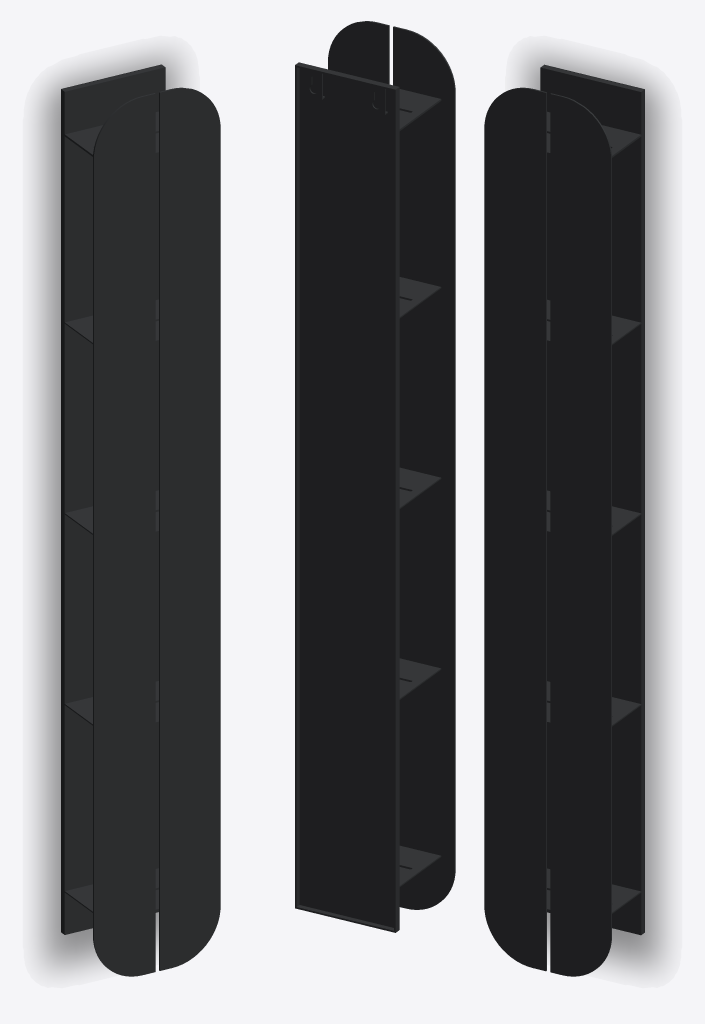
File: round-prima.3bdfa59b88.ar.glb
3 views of the same model, side by side, from view 1: azimuth 30°, elevation 25°; view 2: azimuth 150°, elevation 25°; view 3: azimuth 330°, elevation 25° (orthographic).
Parts seen in each view (by area): view 1: NAUO1, object 2; view 2: NAUO1; view 3: NAUO1, object 2.
Part boxes in pixels (box(x1,y1,x2,y2)): NAUO1: box(61, 64, 220, 976); object 2: box(39, 54, 182, 969); NAUO1: box(295, 21, 455, 932); NAUO1: box(484, 64, 644, 976); object 2: box(522, 54, 665, 969).
Size of the model in its own units: 0.2312 by 1.08 by 0.096.
2 materials, 1 textured.
